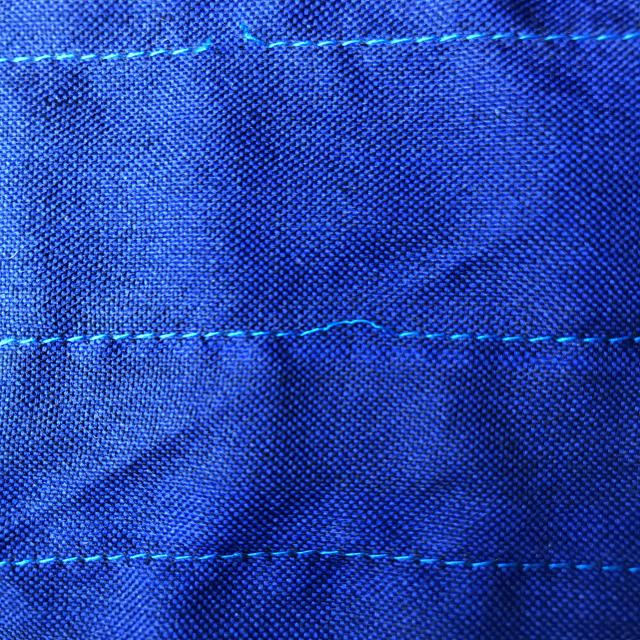broken: (163, 22, 302, 66)
good: (108, 544, 269, 578)
skip: (276, 296, 416, 360)
